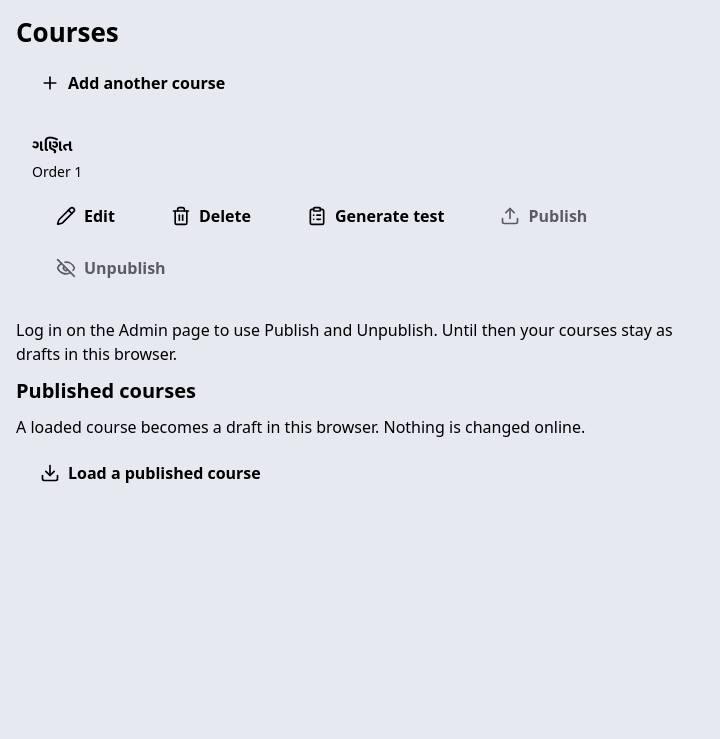
Test: CourseManager: Generate test › Generate new test and Edit open the test window; Back returns to the list and changes nothing
Click the button "Generate test" at point(376, 216), box [283,194,468,238]
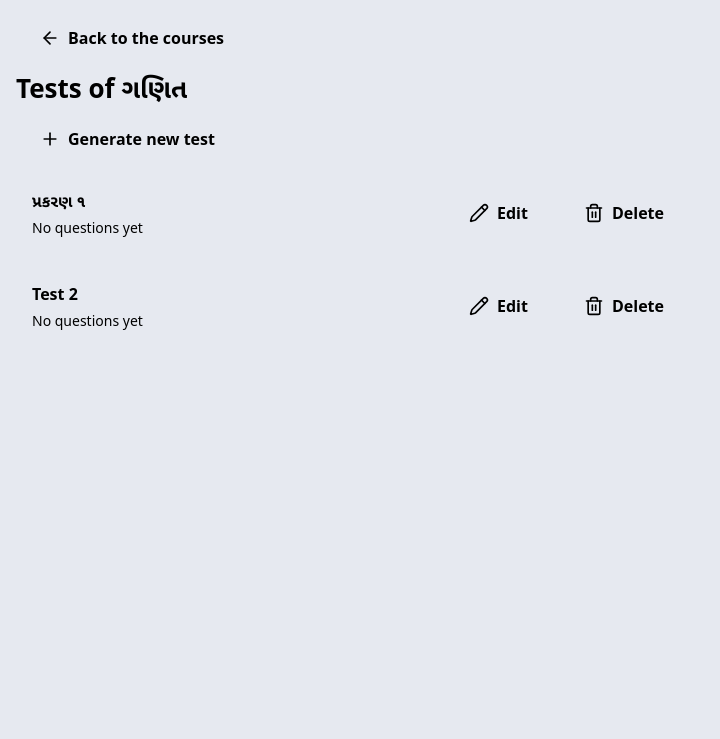
Click the button "Generate new test" at point(128, 138), box [16,116,239,160]
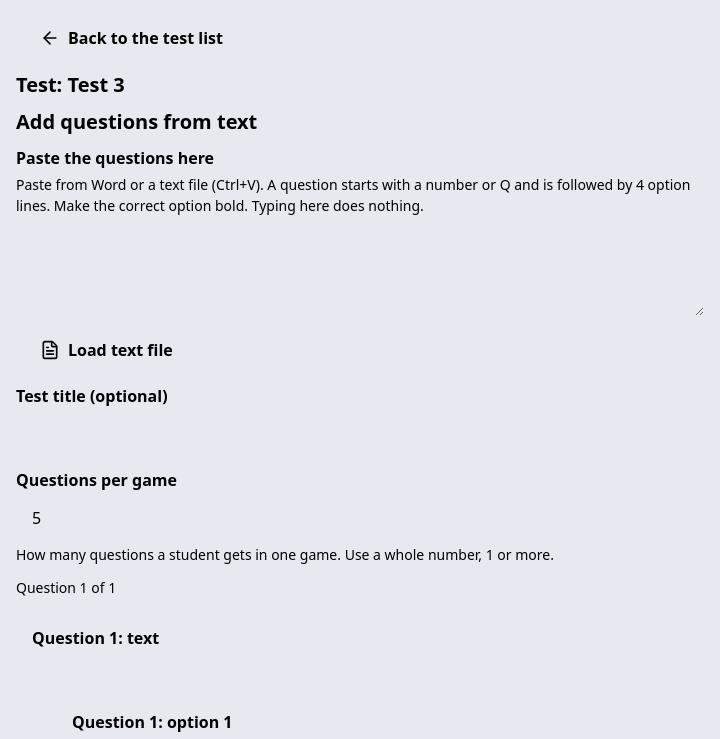
Click the button "Back to the test list" at point(131, 38), box [16,16,247,60]
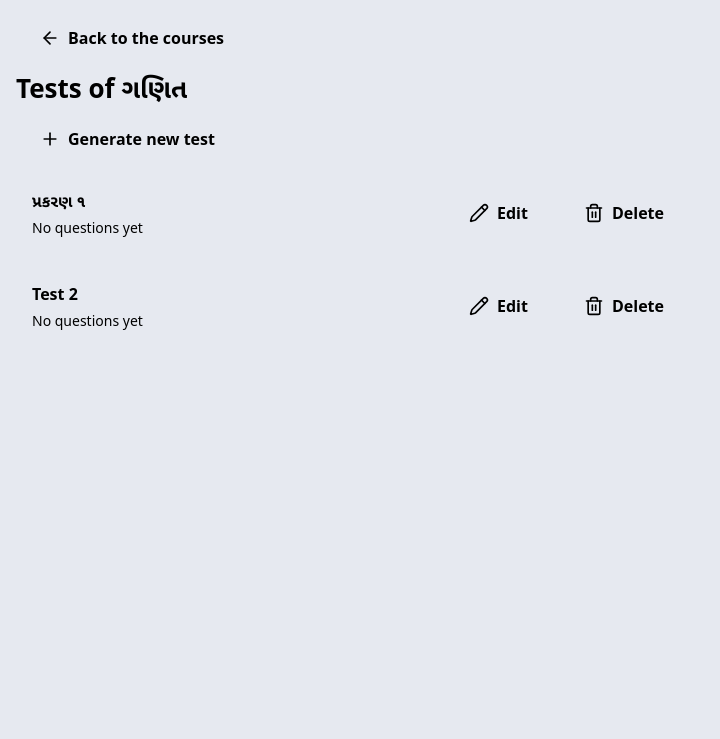
Result: the button "Generate new test" is shown at [16,116,239,160]
Click the button "Edit" in the row of "પ્રકરણ ૧" at point(498, 213), box [445,191,552,235]
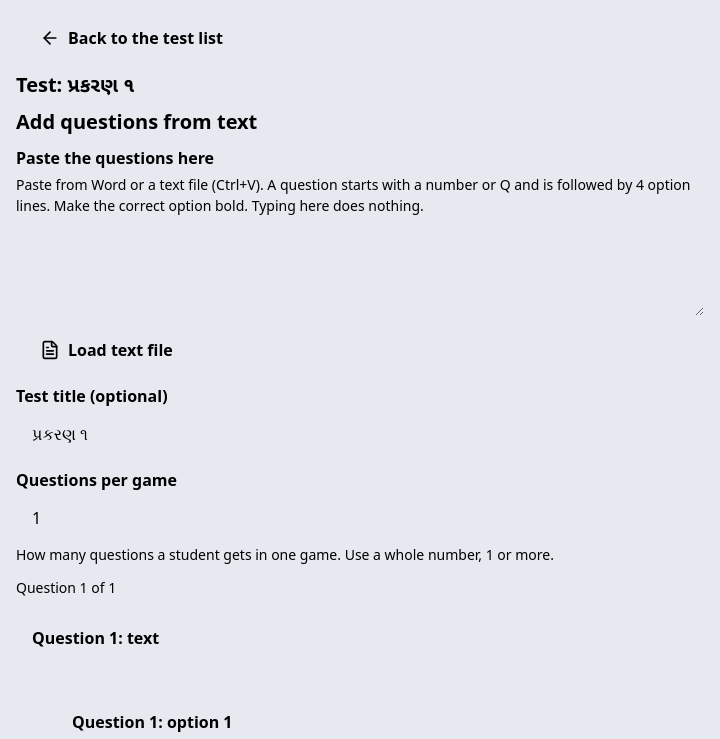
Click the button "Back to the test list" at point(131, 38), box [16,16,247,60]
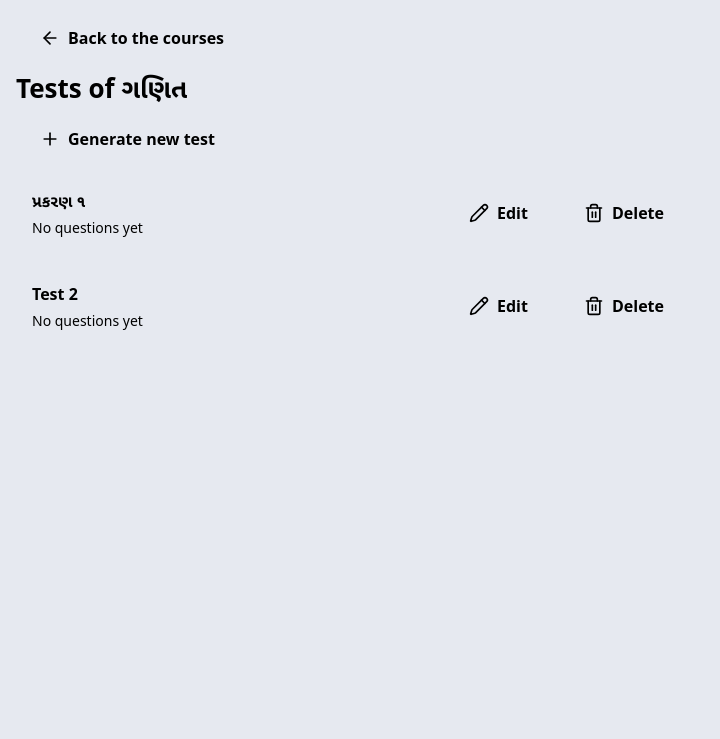
Result: the button "Generate new test" is shown at [16,116,239,160]
